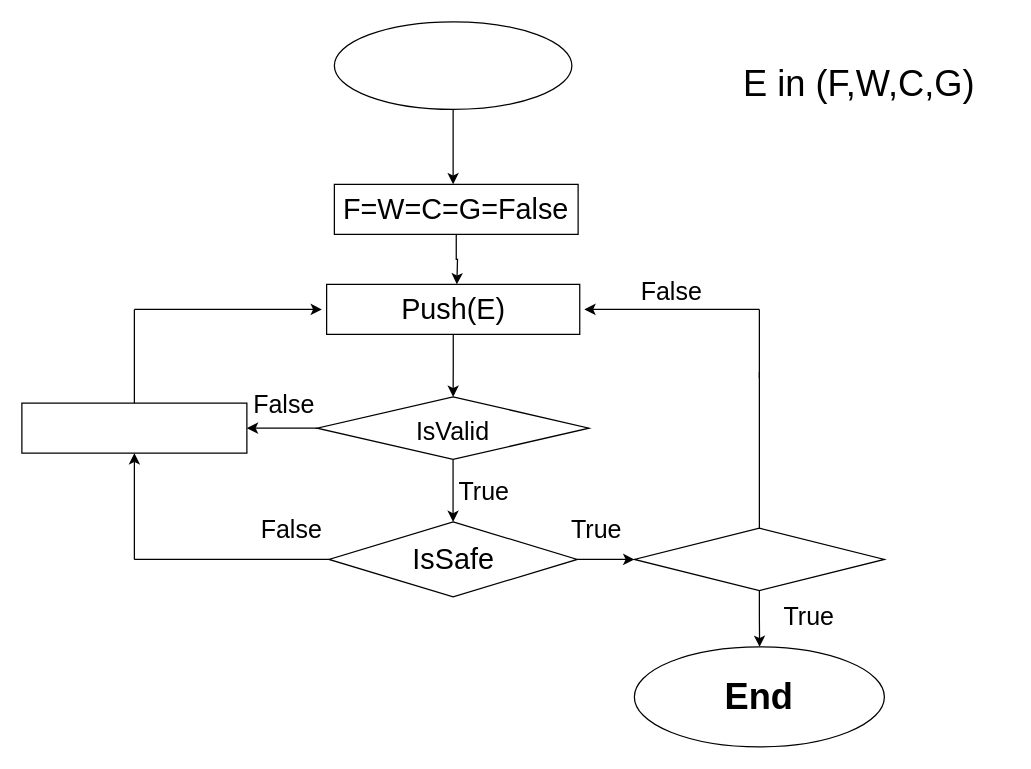
The diagram is 1031 pixels wide and 769 high, and some of its shapes have lost their labels. The box of each missing label's shape, as (x1, y1, x2, y2) in pixels:
F=W=C=G=True: (633, 527, 884, 591)
Pop(E): (21, 402, 247, 453)
Start: (333, 21, 572, 109)
